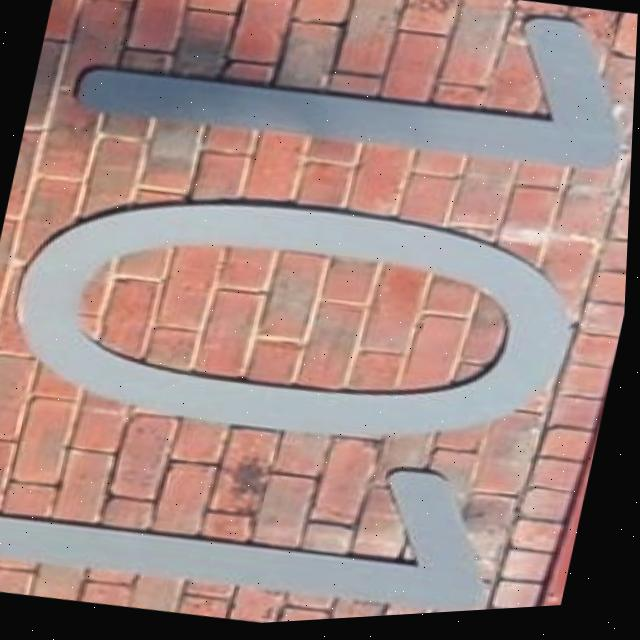character: (0, 131, 607, 502), (0, 381, 537, 640), (54, 0, 640, 219)
